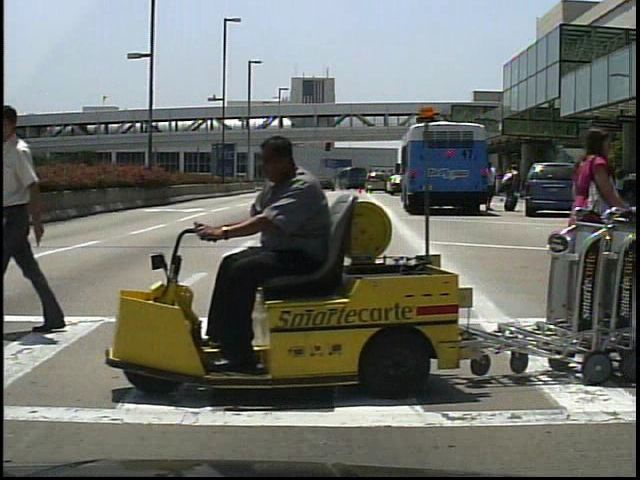person: (206, 134, 339, 373), (8, 100, 80, 337), (559, 120, 622, 352), (480, 162, 500, 215), (580, 164, 601, 214), (503, 164, 522, 217)
